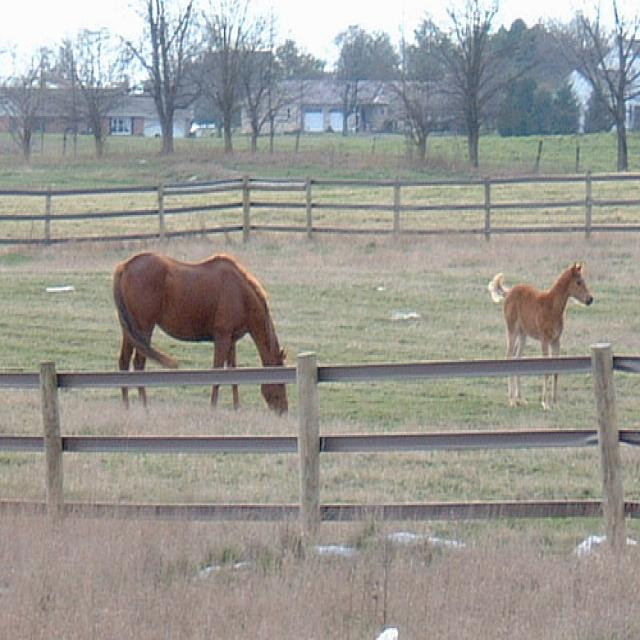horse: (112, 250, 289, 418), (487, 261, 595, 411)
